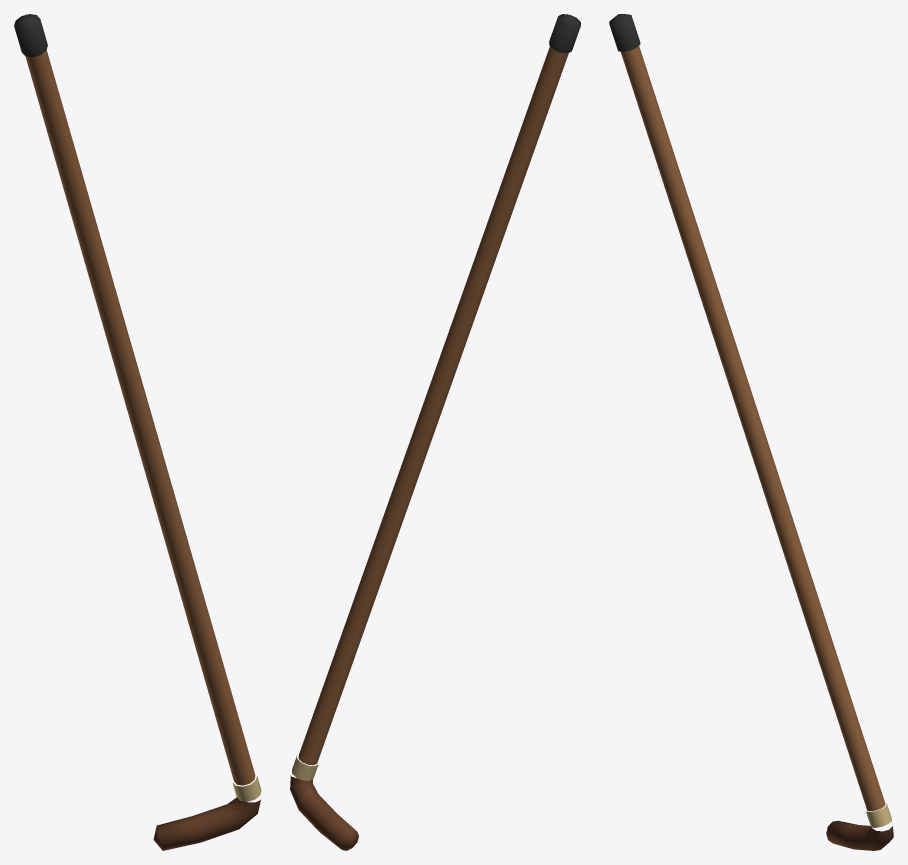
Rendered from old-cane-primo.glb.
The picture shows the model from 3 angles, left to right: view 1: azimuth 30°, elevation 25°; view 2: azimuth 150°, elevation 25°; view 3: azimuth 330°, elevation 25°; orthographic projection. The views are drawn at different scales.
Visible parts, largest first — view 1: Acc_Male_Hand_Cane; view 2: Acc_Male_Hand_Cane; view 3: Acc_Male_Hand_Cane.
Part boxes in pixels (box(x1,y1,x2,y2)): Acc_Male_Hand_Cane: box(14, 14, 261, 850); Acc_Male_Hand_Cane: box(290, 14, 580, 850); Acc_Male_Hand_Cane: box(609, 14, 893, 850).
Bounding box in the file's own units: 0.1496 × 0.4711 × 0.0618.
